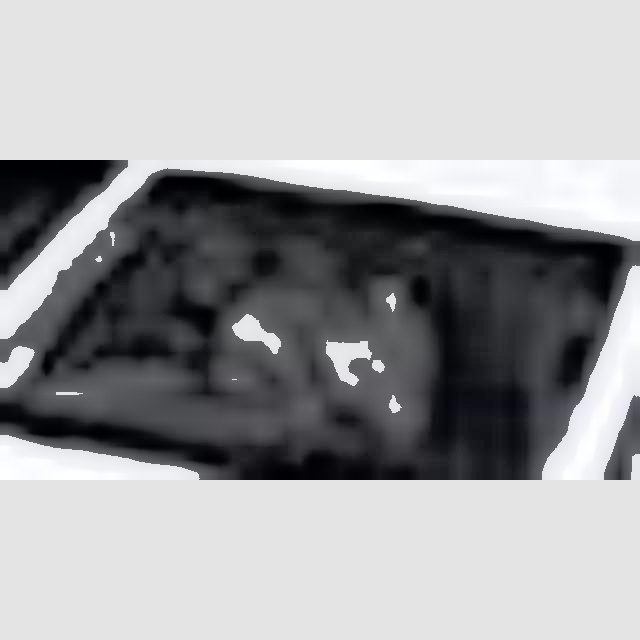pakai: (213, 240, 413, 413)
